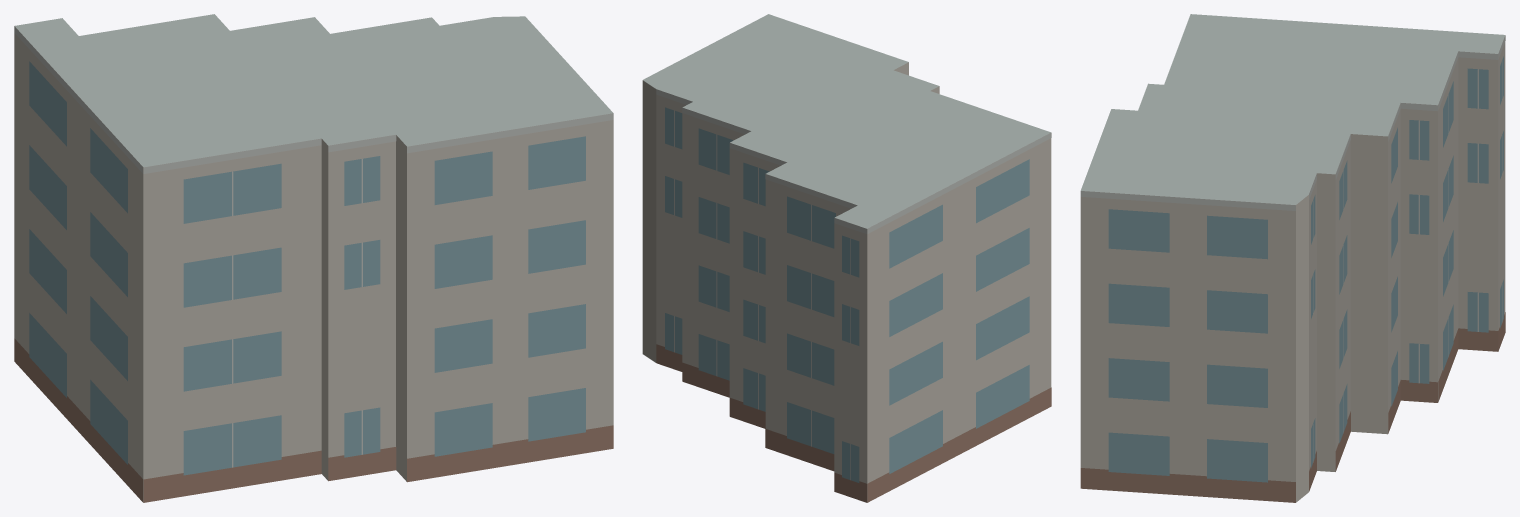
File: survey-upis-32620076.glb
3 views of the same model, side by side, from view 1: azimuth 30°, elevation 25°; view 2: azimuth 150°, elevation 25°; view 3: azimuth 270°, elevation 25° (orthographic). The views are drawn at different scales.
Visible parts, largest first — view 1: survey-upis-32620076.tmp; view 2: survey-upis-32620076.tmp; view 3: survey-upis-32620076.tmp.
Part boxes in pixels (box(x1,y1,x2,y2)): survey-upis-32620076.tmp: box(14, 14, 613, 502); survey-upis-32620076.tmp: box(642, 14, 1051, 502); survey-upis-32620076.tmp: box(1080, 14, 1505, 502).
Bounding box in the file's own units: 16.8 × 12.2 × 15.79.
